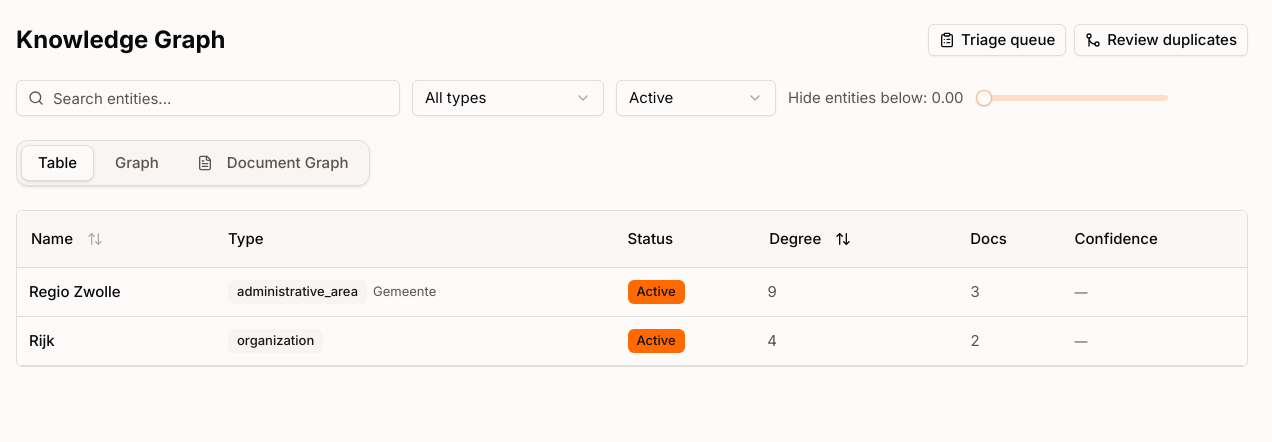
Knowledge Graph details: closing wins (WB.5 review m2) › a later click wins over an earlier one still loading
Click the row with test id "entity-row-entity:a" at [632, 292], box x1=17 y1=268 x2=1247 y2=316
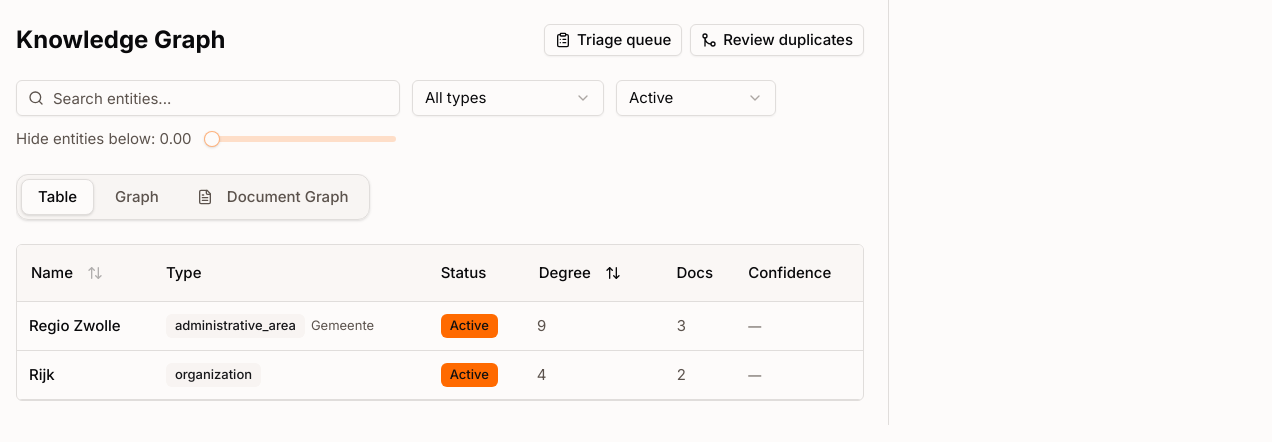
Click the row with test id "entity-row-entity:b" at [440, 375], box x1=17 y1=350 x2=863 y2=400
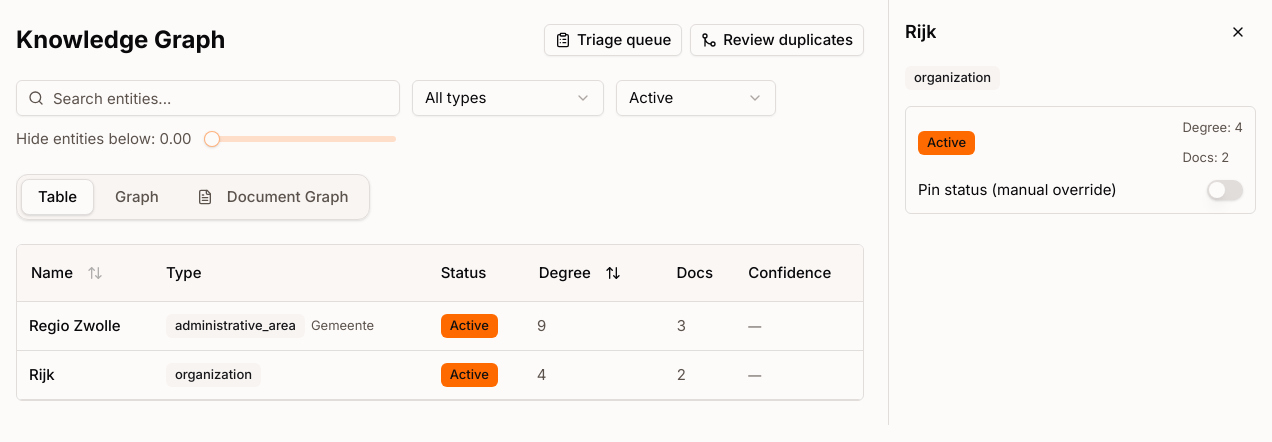
Expected: the heading "Rijk" is shown, x1=905 y1=18 x2=936 y2=46
